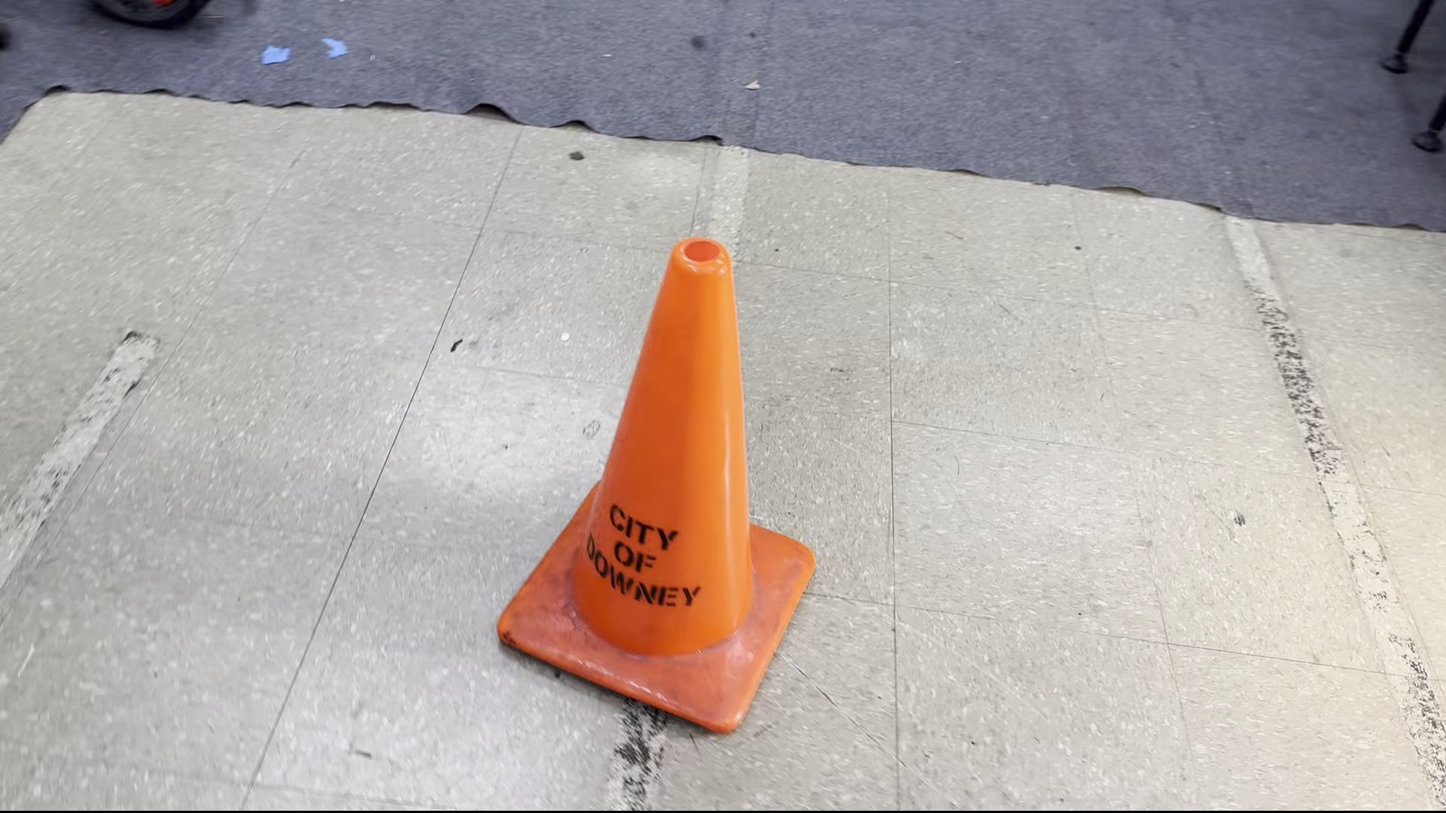traffic_cone: (496, 236, 817, 734)
